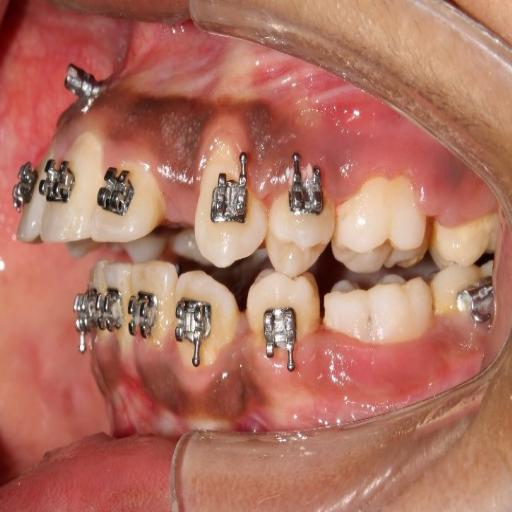correct_brace: (268, 150, 334, 277), (246, 266, 318, 376), (256, 286, 308, 375), (206, 154, 254, 236), (176, 293, 222, 364), (97, 164, 134, 224), (130, 290, 163, 338)
incorrect_brace: (93, 158, 159, 245), (130, 258, 175, 349), (286, 154, 326, 232)
